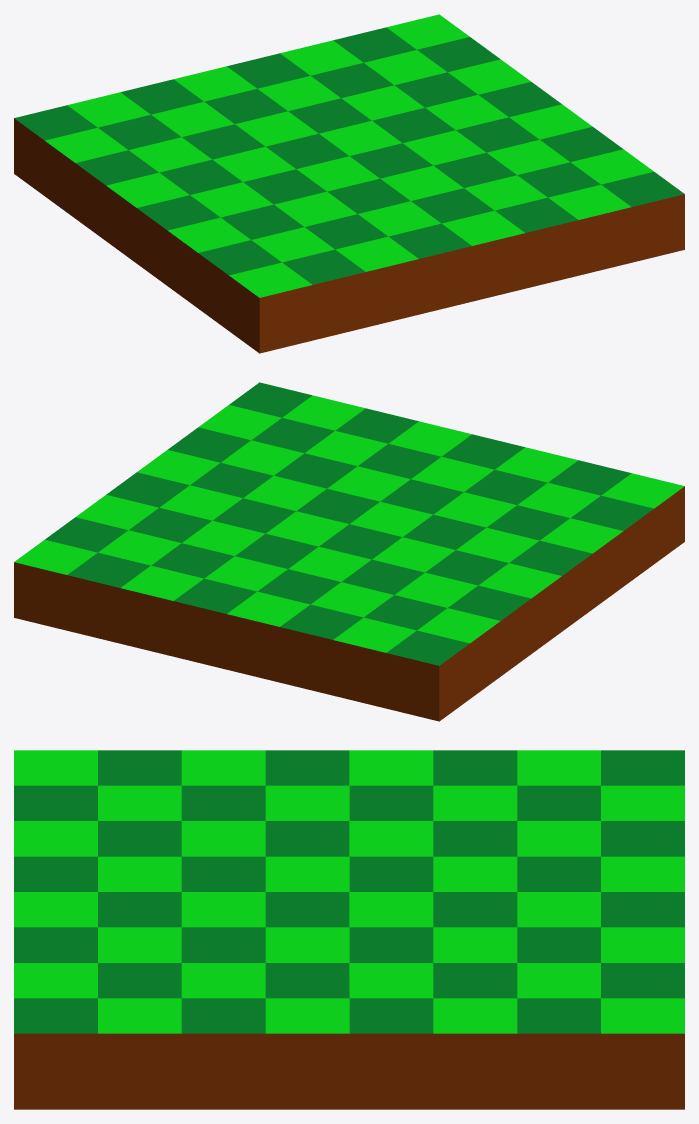
Rendered from suelo8x8.fbx.
3 renders of one model, top to bottom at view 1: azimuth 30°, elevation 25°; view 2: azimuth 150°, elevation 25°; view 3: azimuth 270°, elevation 25°, orthographic. The views are drawn at different scales.
Visible parts, largest first — view 1: Cube, Cube.029, Cube.002, Cube.031, Cube.024, Cube.005, Cube.026, Cube.007, Cube.015, Cube.014, Cube.048, Cube.063 (+52 smaller); view 2: Cube.049, Cube.044, Cube.051, Cube.046, Cube.041, Cube.052, Cube.043, Cube.054, Cube.001, Cube.063, Cube.062, Cube.014 (+52 smaller); view 3: Cube.021, Cube.020, Cube.037, Cube.036, Cube.027, Cube.026, Cube.043, Cube.042, Cube.015, Cube.014, Cube.009, Cube.008 (+52 smaller).
Part boxes in pixels (x1=…): Cube: x1=229, y1=262, x2=312, y2=353; Cube.029: x1=495, y1=197, x2=578, y2=288; Cube.002: x1=282, y1=249, x2=365, y2=340; Cube.031: x1=442, y1=210, x2=525, y2=301; Cube.024: x1=548, y1=184, x2=631, y2=275; Cube.005: x1=388, y1=223, x2=472, y2=314; Cube.026: x1=601, y1=172, x2=684, y2=262; Cube.007: x1=335, y1=236, x2=418, y2=327; Cube.015: x1=167, y1=217, x2=250, y2=308; Cube.014: x1=136, y1=195, x2=220, y2=285; Cube.048: x1=44, y1=127, x2=128, y2=218; Cube.063: x1=106, y1=172, x2=189, y2=263; Cube.049: x1=386, y1=630, x2=469, y2=721; Cube.044: x1=120, y1=565, x2=203, y2=656; Cube.051: x1=333, y1=617, x2=416, y2=708; Cube.046: x1=173, y1=578, x2=256, y2=669; Cube.041: x1=67, y1=552, x2=150, y2=643; Cube.052: x1=226, y1=591, x2=310, y2=682; Cube.043: x1=14, y1=540, x2=97, y2=630; Cube.054: x1=280, y1=604, x2=363, y2=695; Cube.001: x1=570, y1=495, x2=654, y2=586; Cube.063: x1=478, y1=563, x2=562, y2=653; Cube.062: x1=448, y1=585, x2=531, y2=676; Cube.014: x1=509, y1=540, x2=592, y2=631; Cube.021: x1=181, y1=998, x2=265, y2=1109; Cube.020: x1=265, y1=998, x2=349, y2=1109; Cube.037: x1=349, y1=998, x2=433, y2=1109; Cube.036: x1=433, y1=998, x2=517, y2=1109; Cube.027: x1=98, y1=998, x2=181, y2=1109; Cube.026: x1=14, y1=998, x2=97, y2=1109; Cube.043: x1=601, y1=998, x2=684, y2=1109; Cube.042: x1=517, y1=998, x2=600, y2=1109; Cube.015: x1=181, y1=750, x2=265, y2=785; Cube.014: x1=265, y1=750, x2=349, y2=785; Cube.009: x1=265, y1=821, x2=349, y2=856; Cube.008: x1=181, y1=821, x2=265, y2=856.
Size of the model in its own units: 1600 by 200 by 1600.
